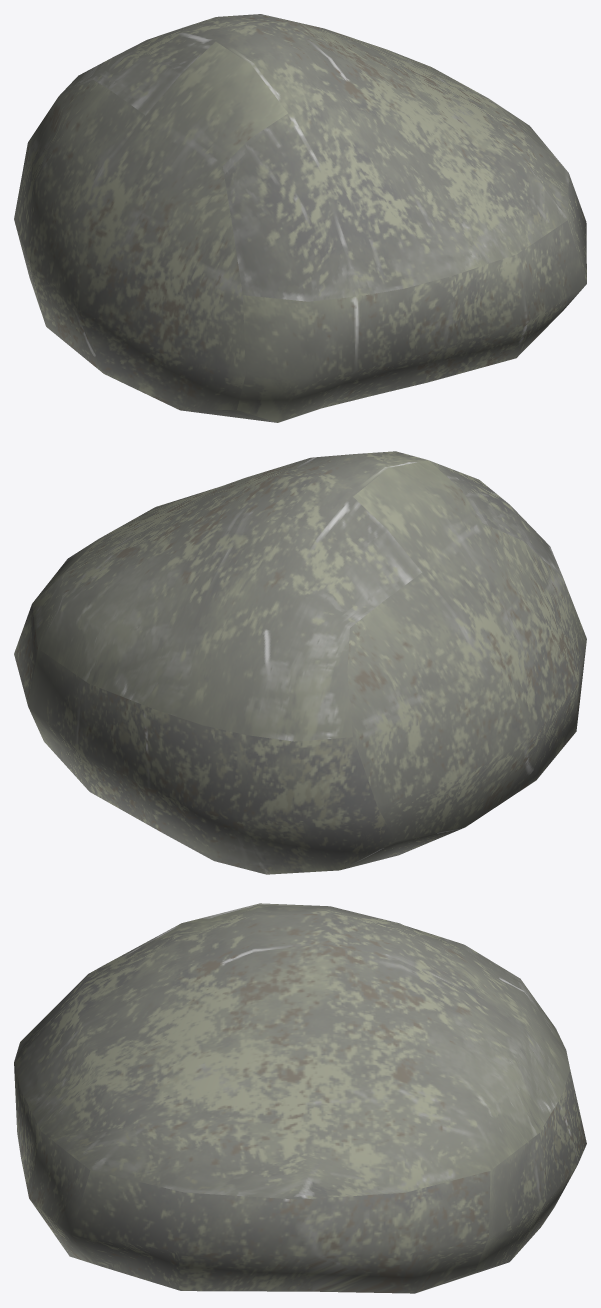
Rendered from MA_EnvArt_Rock_01.fbx.
3 renders of one model, top to bottom at view 1: azimuth 30°, elevation 25°; view 2: azimuth 150°, elevation 25°; view 3: azimuth 270°, elevation 25°, orthographic.
Visible parts, largest first — view 1: pCube2; view 2: pCube2; view 3: pCube2.
Part boxes in pixels (x1,y1,x2,y2): pCube2: (14, 14, 586, 422); pCube2: (14, 451, 586, 874); pCube2: (14, 903, 586, 1293).
Size of the model in its own units: 133 by 85.94 by 138.
